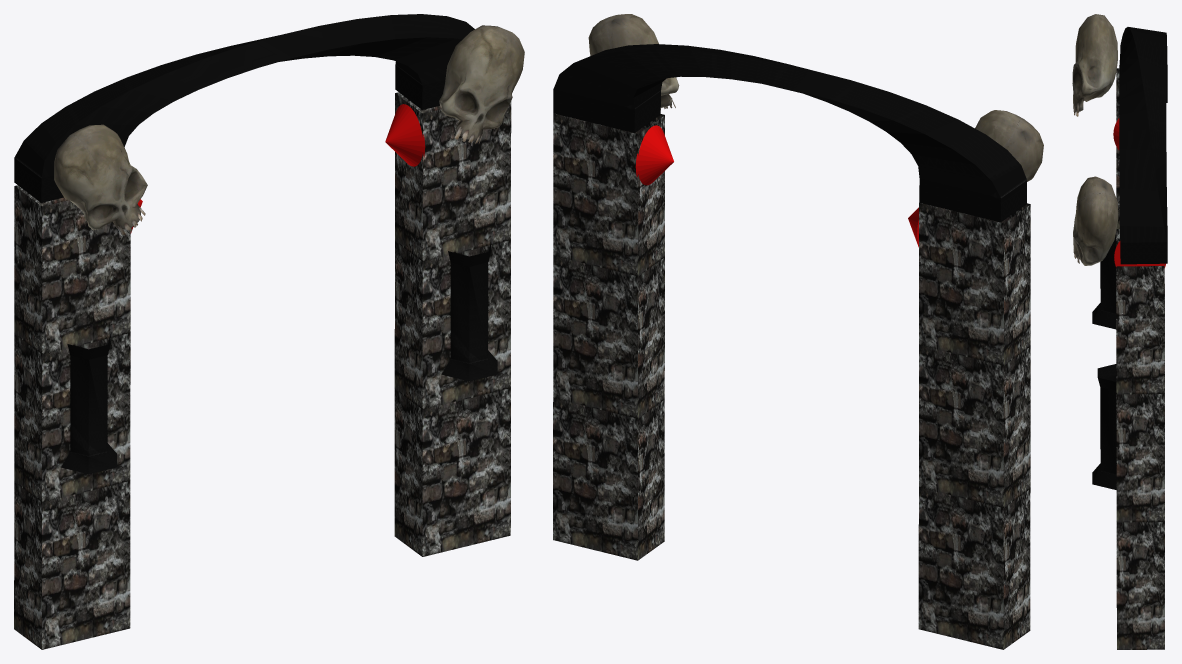
File: arco.obj
3 views of the same model, side by side, from view 1: azimuth 30°, elevation 25°; view 2: azimuth 150°, elevation 25°; view 3: azimuth 270°, elevation 25° (orthographic). The views are drawn at different scales.
Parts seen in each view (by area): view 1: Mesh_0090.005, Mesh_0090.001, Cubo.002, skull01, skull01.001, Mesh_0090.003, Mesh_0090.002, Cono.001; view 2: Mesh_0090.005, Mesh_0090.001, Cubo.002, skull01, skull01.001, Cono.001; view 3: Mesh_0090.001, Cubo.002, skull01, skull01.001, Mesh_0090.003, Mesh_0090.002, Mesh_0090.005, Cono.001, Cono.002.
Part boxes in pixels (x1,y1,x2,y2): Mesh_0090.005: (14,185,130,649); Mesh_0090.001: (394,92,511,556); Cubo.002: (14,14,474,202); skull01: (54,124,147,235); skull01.001: (439,25,524,144); Mesh_0090.003: (441,242,497,381); Mesh_0090.002: (61,334,116,474); Cono.001: (385,104,425,166); Mesh_0090.005: (918,202,1030,649); Mesh_0090.001: (553,113,664,560); Cubo.002: (553,44,1026,222); skull01: (975,110,1043,181); skull01.001: (588,14,679,109); Cono.001: (635,125,673,185); Mesh_0090.001: (1116,229,1164,649); Cubo.002: (1119,27,1167,264); skull01: (1072,14,1117,116); skull01.001: (1073,176,1118,265); Mesh_0090.003: (1092,364,1116,489); Mesh_0090.002: (1092,232,1116,329); Mesh_0090.005: (1116,68,1164,443); Cono.001: (1114,241,1165,267); Cono.002: (1113,118,1119,150).
Size of the model in its own units: 3.99 by 4.4 by 0.8086.
11 materials, 11 textured.
